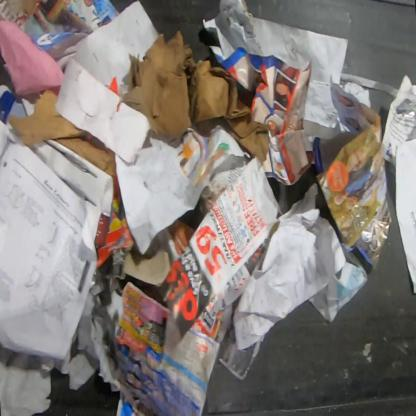cardboard: (122, 29, 270, 166), (56, 56, 150, 164), (9, 88, 117, 177), (96, 177, 173, 288), (394, 138, 416, 295), (218, 0, 264, 57)
